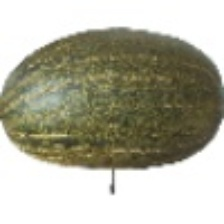honeydew: (40, 44, 222, 200)
